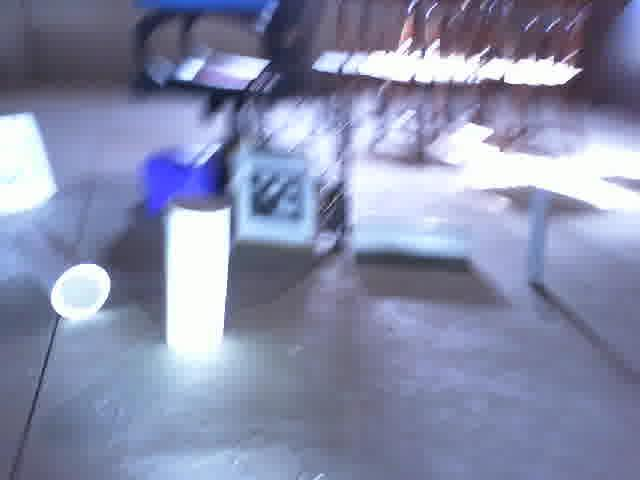coral: (0, 204, 116, 326), (160, 193, 235, 355), (350, 217, 479, 270)
